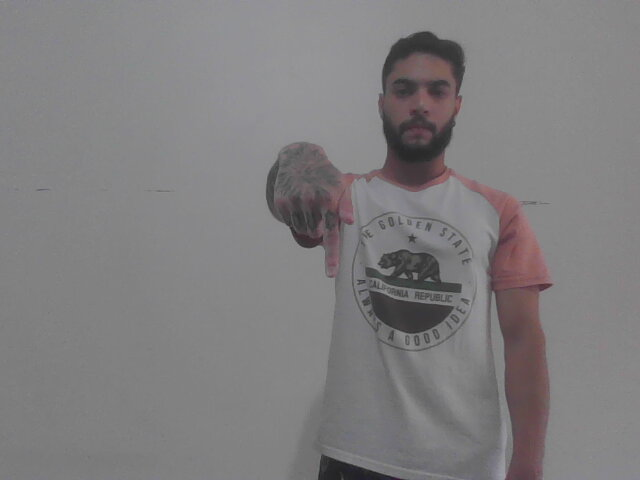q: (251, 140, 358, 279)
